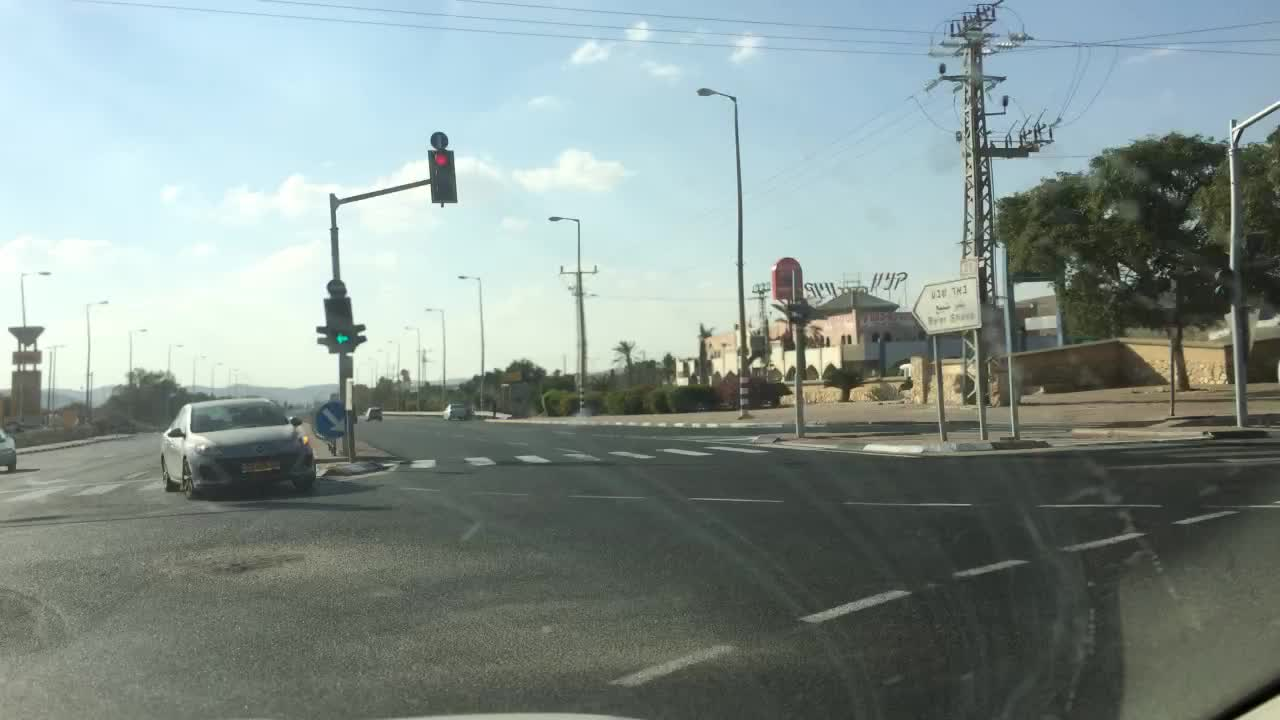car: (158, 394, 318, 502), (0, 427, 17, 472), (441, 402, 469, 421), (364, 406, 383, 421)
traffic light: (426, 149, 458, 204), (324, 298, 352, 354), (354, 322, 367, 348), (314, 325, 328, 347)
traffic sign: (910, 277, 981, 336), (1223, 305, 1257, 353), (315, 401, 347, 439), (429, 130, 448, 149), (327, 280, 347, 298)
